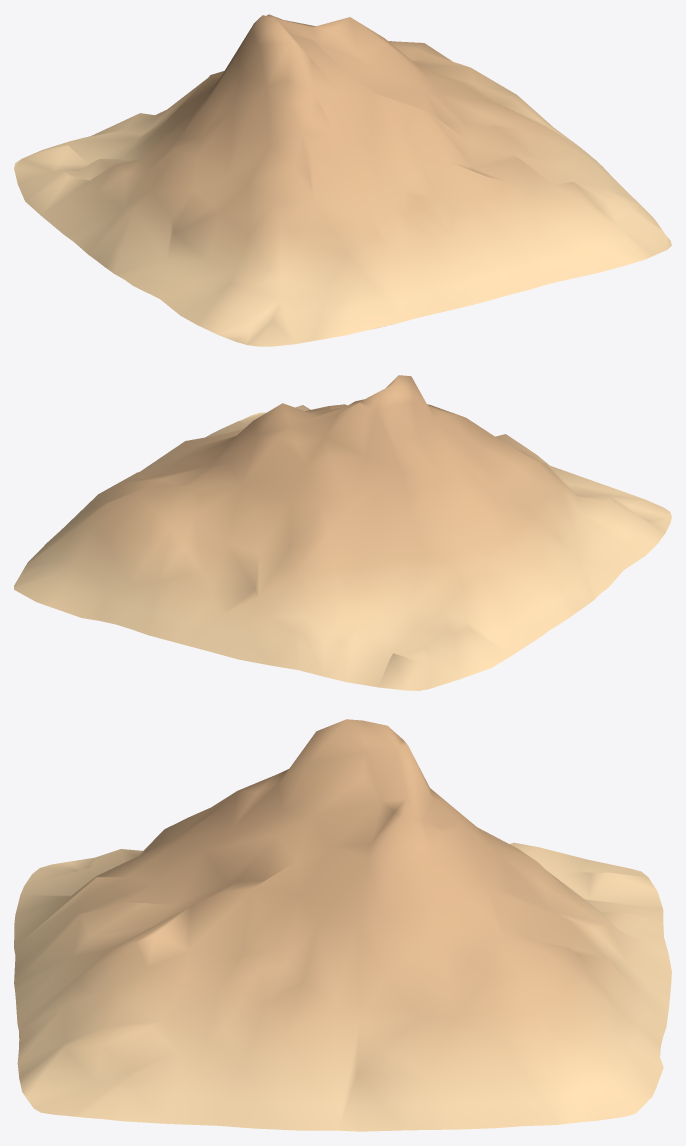
Rendered from Terrain 2.glb.
The picture shows the model from 3 angles, top to bottom: view 1: azimuth 30°, elevation 25°; view 2: azimuth 150°, elevation 25°; view 3: azimuth 270°, elevation 25°; orthographic projection. The views are drawn at different scales.
Visible parts, largest first — view 1: Terrain2; view 2: Terrain2; view 3: Terrain2.
Part boxes in pixels (x1,y1,x2,y2): Terrain2: [14, 14, 671, 346]; Terrain2: [14, 375, 671, 690]; Terrain2: [14, 719, 671, 1131].
Size of what is drawn, in the model's own units: 14.15 by 5.52 by 13.91.
1 material, 1 textured.
